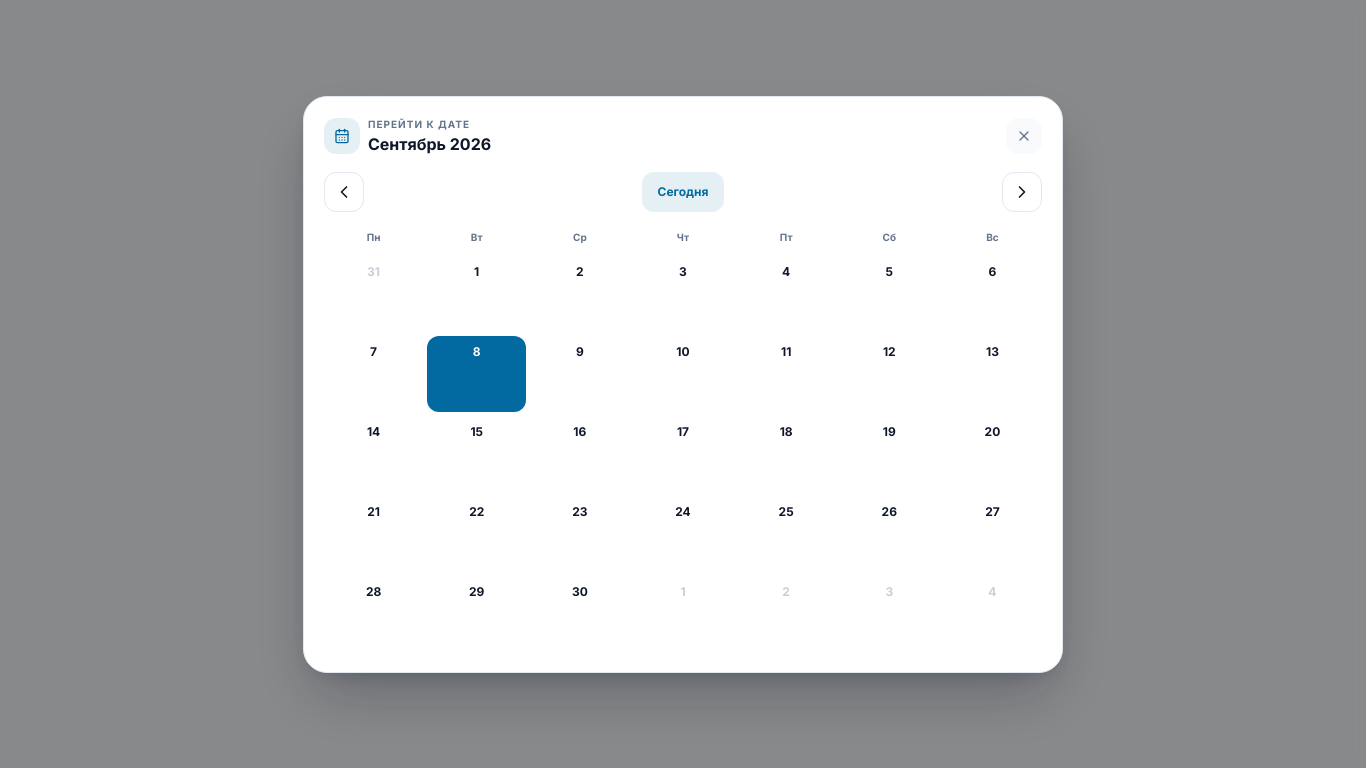
Scenario: TransactionCalendar › navigates to another month without applying a date filter
This screenshot has width=1366, height=768.
Click the button named "Следующий месяц" at (1022, 192), box x1=1002 y1=172 x2=1042 y2=212
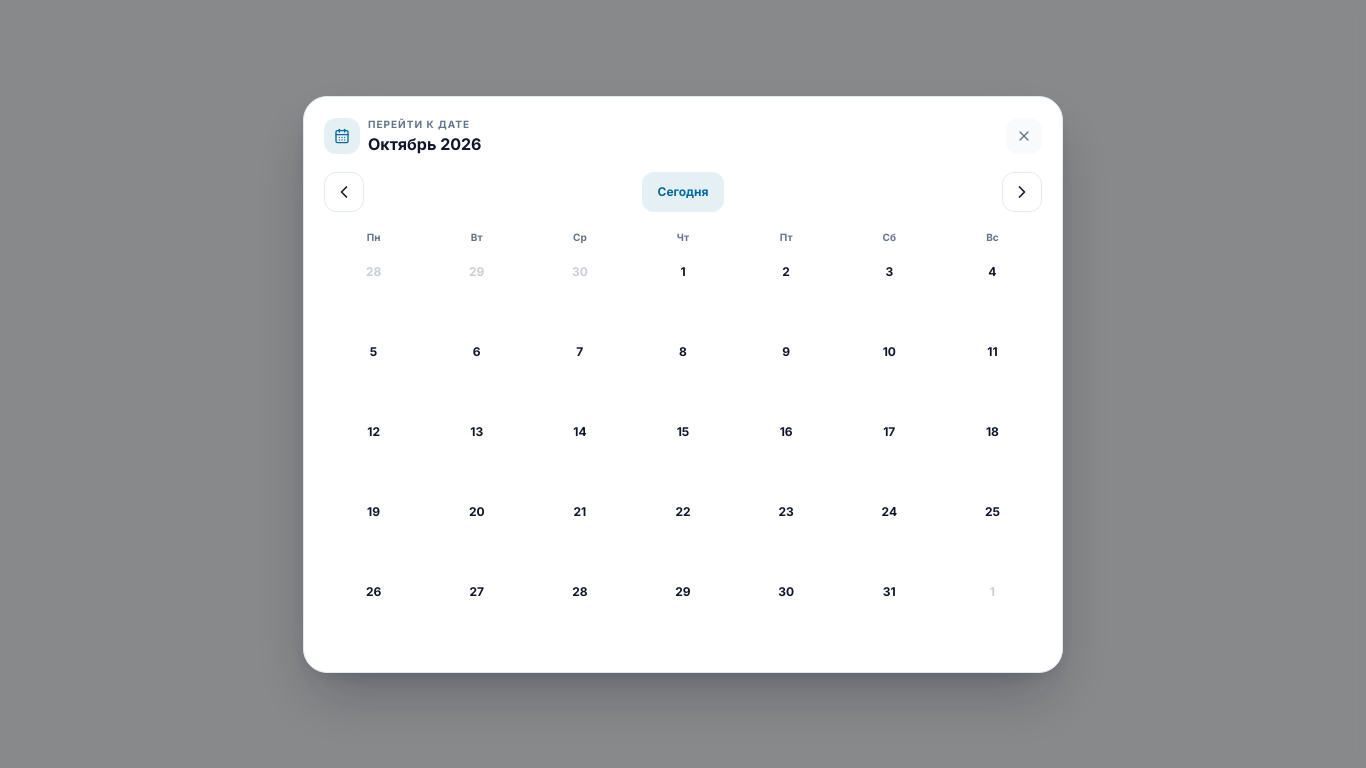
expect the text "октябрь 2026" is shown: met, box x1=368 y1=132 x2=482 y2=156
